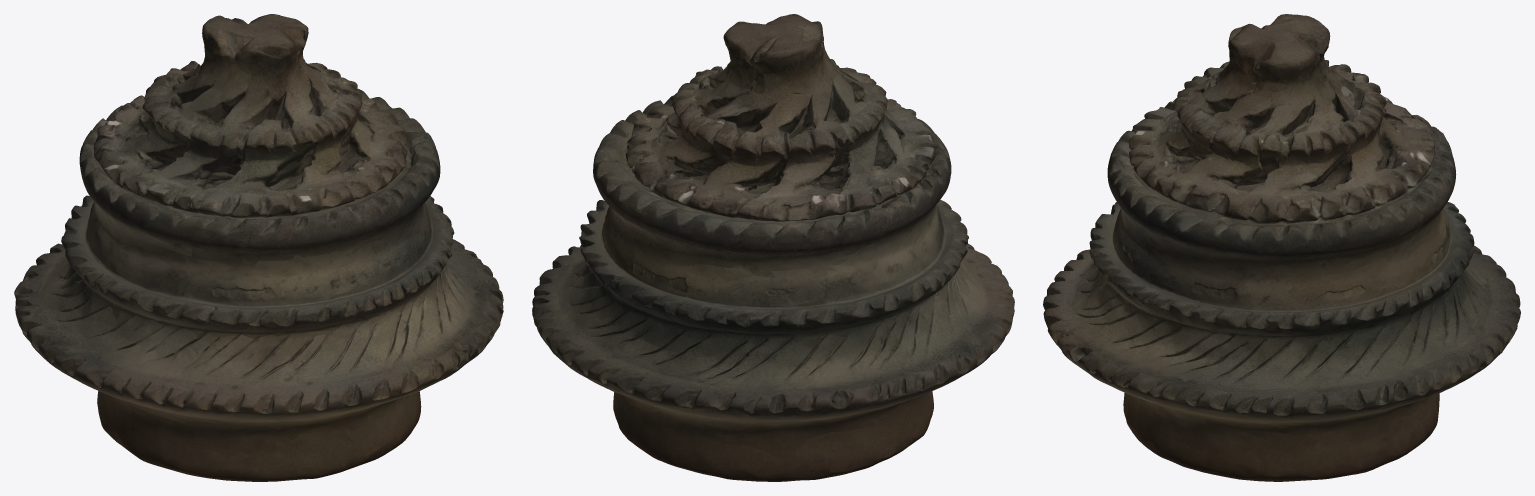
The model's file is Artefak Perasapan.glb.
3 renders of one model, left to right at view 1: azimuth 30°, elevation 25°; view 2: azimuth 150°, elevation 25°; view 3: azimuth 270°, elevation 25°, orthographic. The views are drawn at different scales.
Bounding box in the file's own units: 1.9 × 1.7 × 1.9.
1 material, 1 textured.
